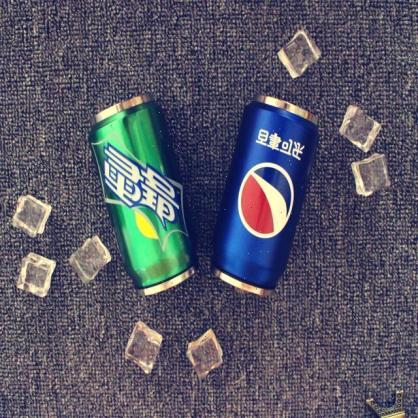can: (89, 91, 199, 298), (214, 94, 320, 296)
